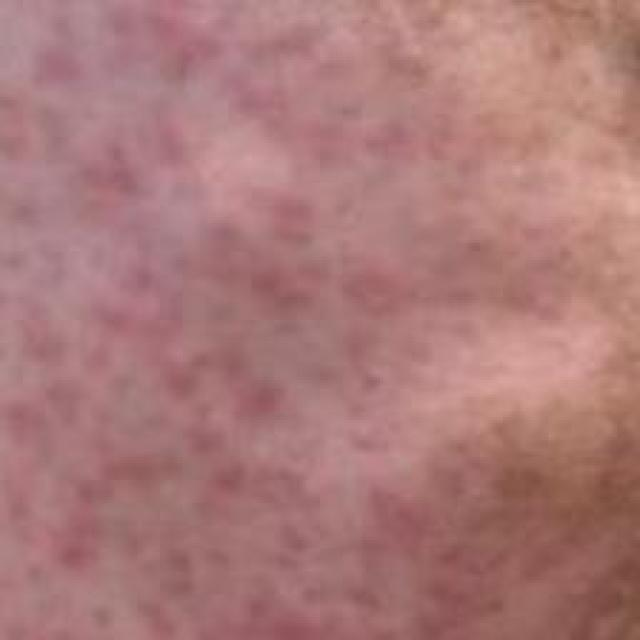monkeypox: (36, 12, 631, 640)
